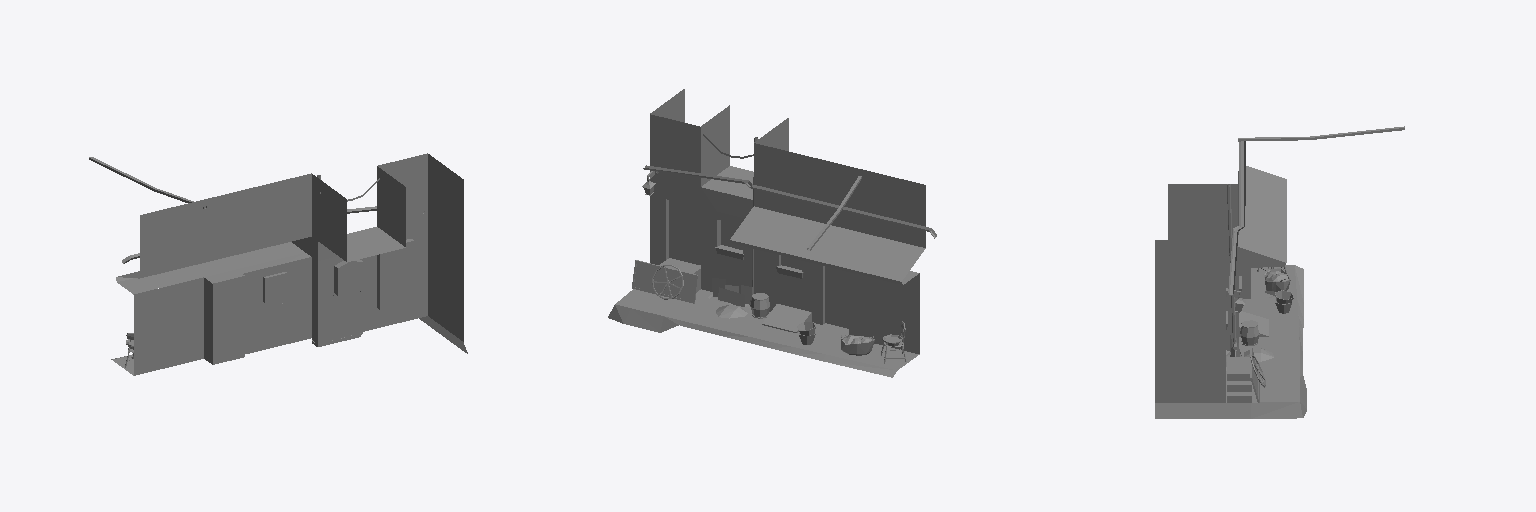
The model's file is Alley_Part02.obj.
The picture shows the model from 3 angles: view 1: azimuth 30°, elevation 25°; view 2: azimuth 150°, elevation 25°; view 3: azimuth 270°, elevation 25°; orthographic projection.
Visible parts, largest first — view 1: Part01; view 2: Part01, Ground01; view 3: Part01, Ground01.
Part boxes in pixels (x1,y1,x2,y2): Part01: (89, 153, 467, 375); Part01: (642, 89, 936, 353); Ground01: (608, 260, 919, 377); Part01: (1155, 126, 1404, 418); Ground01: (1226, 265, 1306, 418).
Bounding box in the file's own units: 960 × 550 × 690.